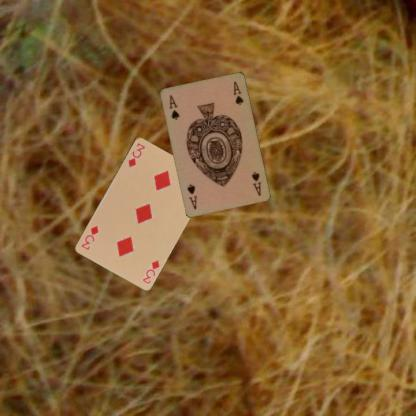3d: (140, 257, 161, 285), (126, 140, 146, 169)
As: (166, 92, 180, 121), (248, 169, 262, 197)
